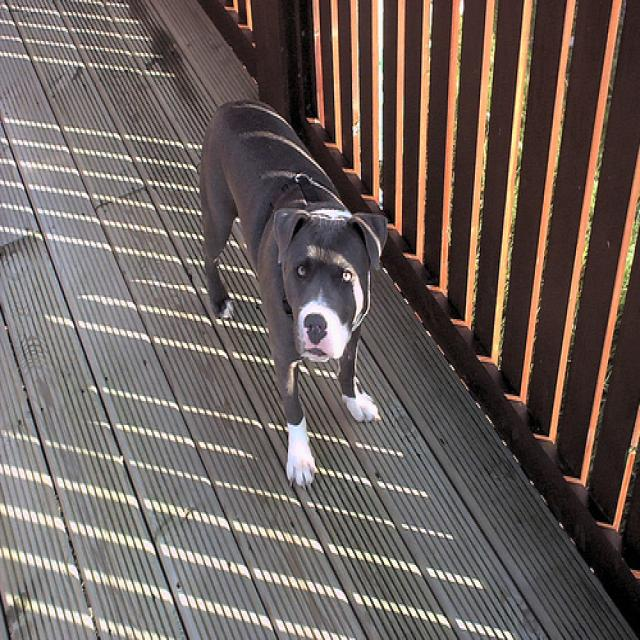dog-staffordshire_bull_terrier: (193, 96, 396, 495)
